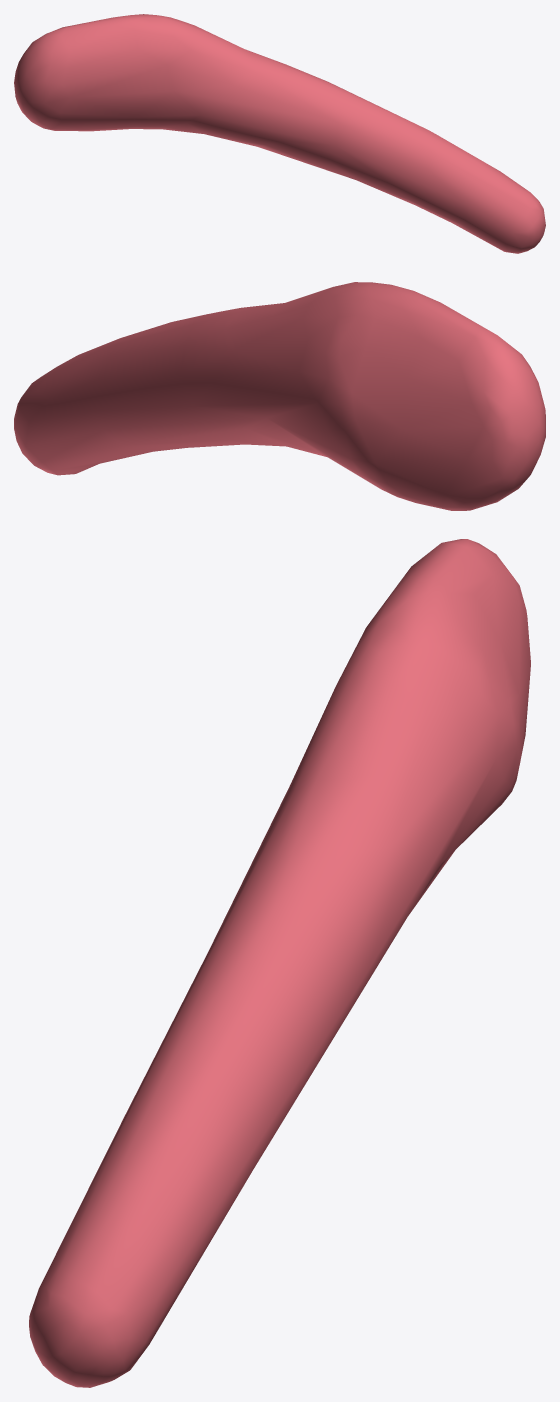
The model's file is fma50306_fj2955.glb.
3 renders of one model, top to bottom at view 1: azimuth 30°, elevation 25°; view 2: azimuth 150°, elevation 25°; view 3: azimuth 270°, elevation 25°, orthographic. The views are drawn at different scales.
Visible parts, largest first — view 1: FMA50306_FJ2955; view 2: FMA50306_FJ2955; view 3: FMA50306_FJ2955.
Part boxes in pixels (box(x1,y1,x2,y2)): FMA50306_FJ2955: box(14, 14, 545, 253); FMA50306_FJ2955: box(14, 282, 545, 510); FMA50306_FJ2955: box(29, 539, 530, 1387).
Bounding box in the file's own units: 0.0401 × 0.0222 × 0.0204.
